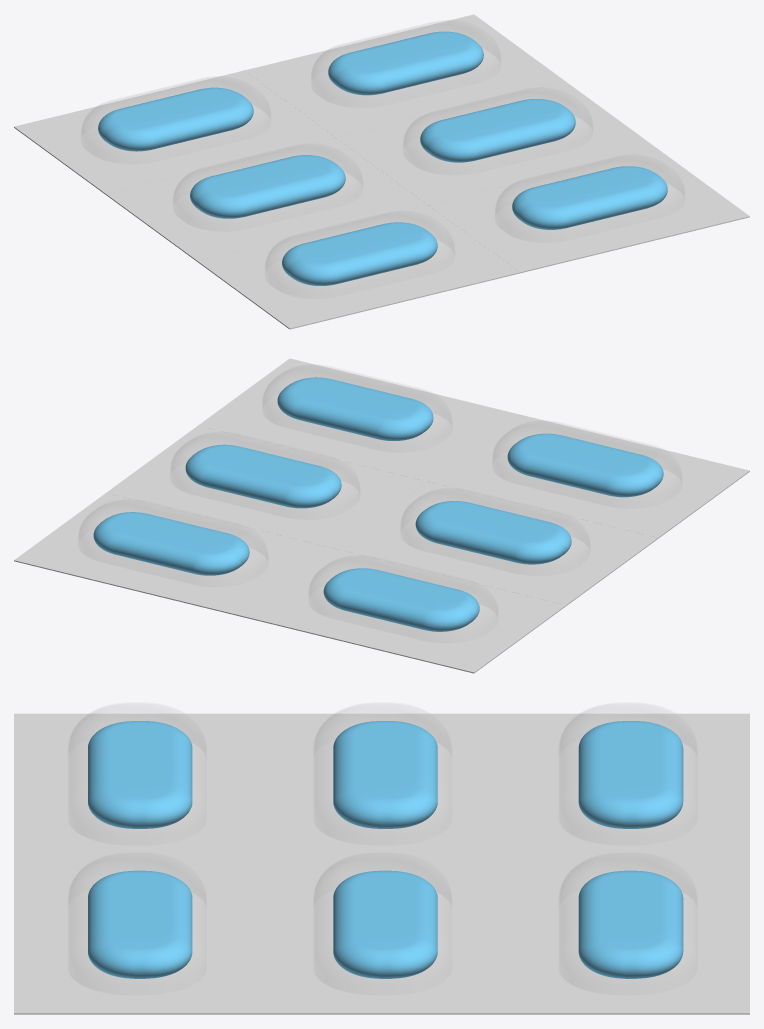
The model's file is Capsule_Pill_2x3_Blue.glb.
The picture shows the model from 3 angles, top to bottom: view 1: azimuth 30°, elevation 25°; view 2: azimuth 150°, elevation 25°; view 3: azimuth 270°, elevation 25°; orthographic projection. The views are drawn at different scales.
Visible parts, largest first — view 1: Capsule_Pill_Base_2x3, Capsule_Pill_2x3, Capsule_Pill_Lid_2x3, Capsule_Pill_Shell_2x3; view 2: Capsule_Pill_Base_2x3, Capsule_Pill_2x3, Capsule_Pill_Lid_2x3, Capsule_Pill_Shell_2x3; view 3: Capsule_Pill_Base_2x3, Capsule_Pill_2x3, Capsule_Pill_Lid_2x3, Capsule_Pill_Shell_2x3.
Boxes of the visible parts, box(x1,y1,x2,y2) form: Capsule_Pill_Base_2x3: box(14, 14, 749, 329); Capsule_Pill_2x3: box(98, 31, 667, 285); Capsule_Pill_Lid_2x3: box(80, 48, 685, 299); Capsule_Pill_Shell_2x3: box(81, 20, 684, 271); Capsule_Pill_Base_2x3: box(14, 358, 749, 673); Capsule_Pill_2x3: box(93, 377, 663, 631); Capsule_Pill_Lid_2x3: box(78, 393, 682, 643); Capsule_Pill_Shell_2x3: box(78, 365, 681, 616); Capsule_Pill_Base_2x3: box(14, 713, 749, 1014); Capsule_Pill_2x3: box(88, 721, 683, 978); Capsule_Pill_Lid_2x3: box(67, 739, 697, 995); Capsule_Pill_Shell_2x3: box(68, 703, 696, 905).
Bounding box in the file's own units: 6.8 × 0.4666 × 7.06.
